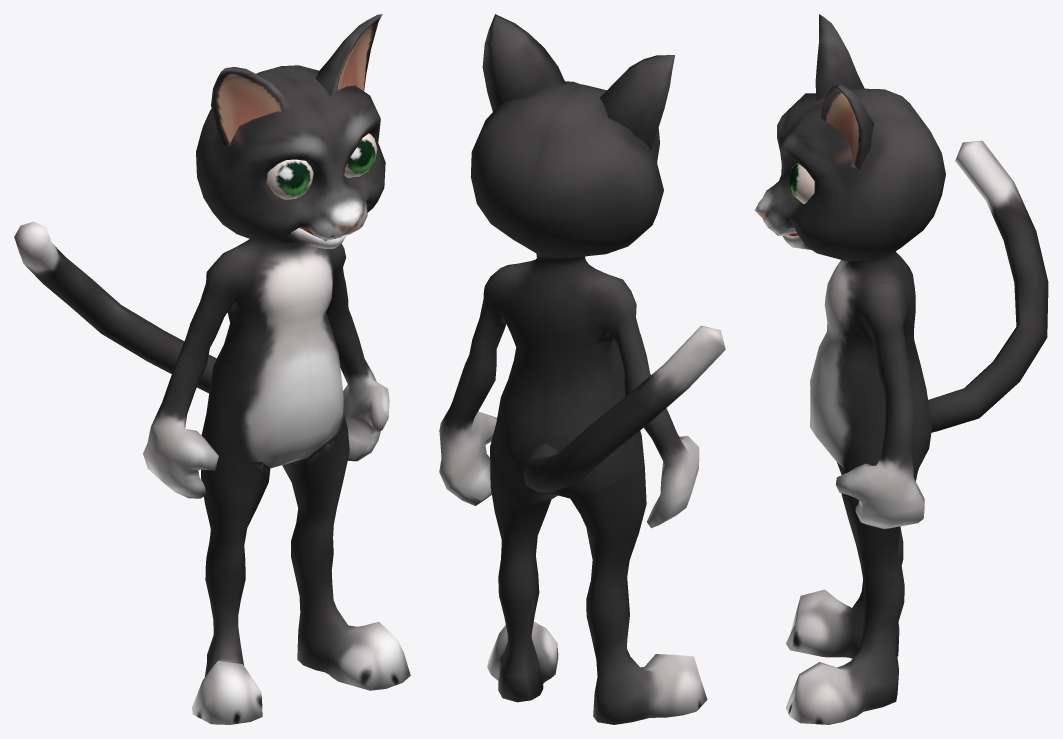
The model's file is Cat.FBX.
3 renders of one model, left to right at view 1: azimuth 30°, elevation 25°; view 2: azimuth 150°, elevation 25°; view 3: azimuth 270°, elevation 25°, orthographic. The views are drawn at different scales.
Visible parts, largest first — view 1: Gato; view 2: Gato; view 3: Gato.
Boxes of the visible parts, x1=… form: Gato: x1=14, y1=14, x2=410, y2=724; Gato: x1=439, y1=14, x2=725, y2=724; Gato: x1=754, y1=14, x2=1048, y2=724.
Bounding box in the file's own units: 86.78 × 70.86 × 168.
